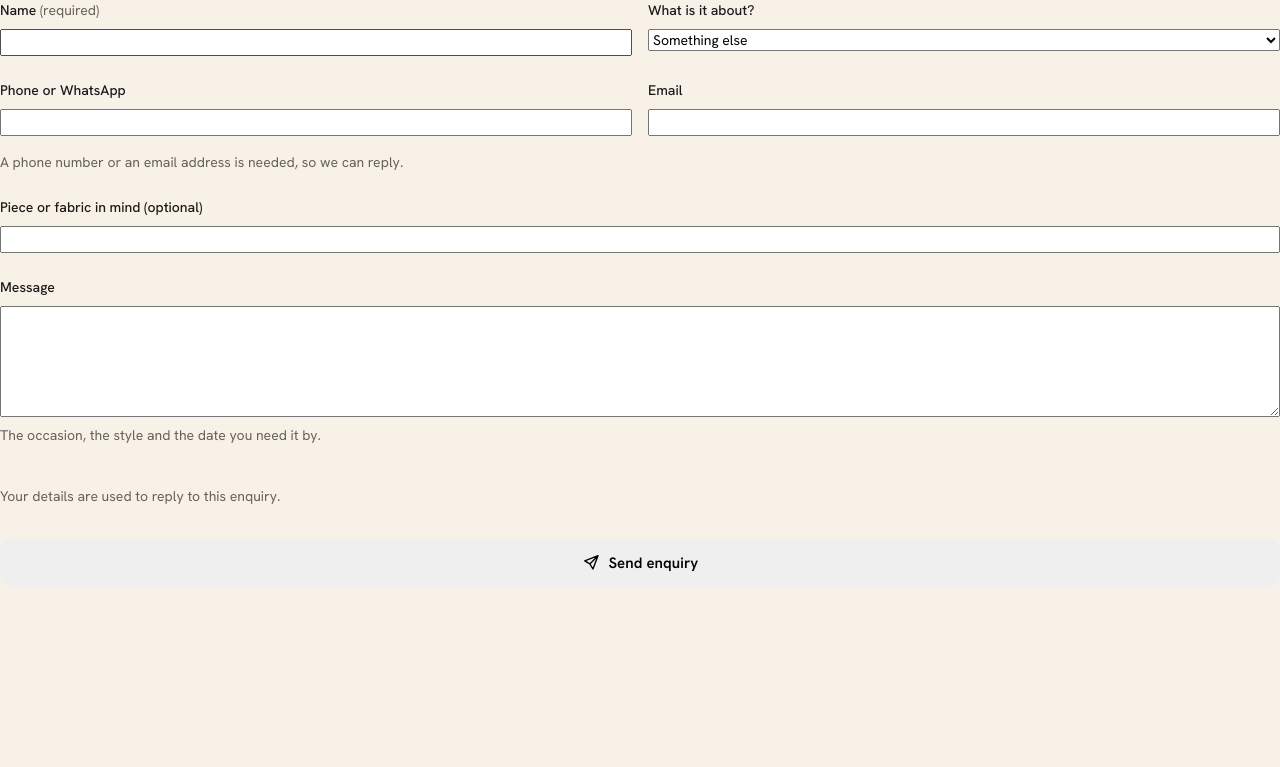
Test: public enquiry form: checking before sending › lists what is missing in a summary that takes focus, and sends nothing
Click the button "Send enquiry".
click(640, 563)  # box [0, 539, 1279, 587]
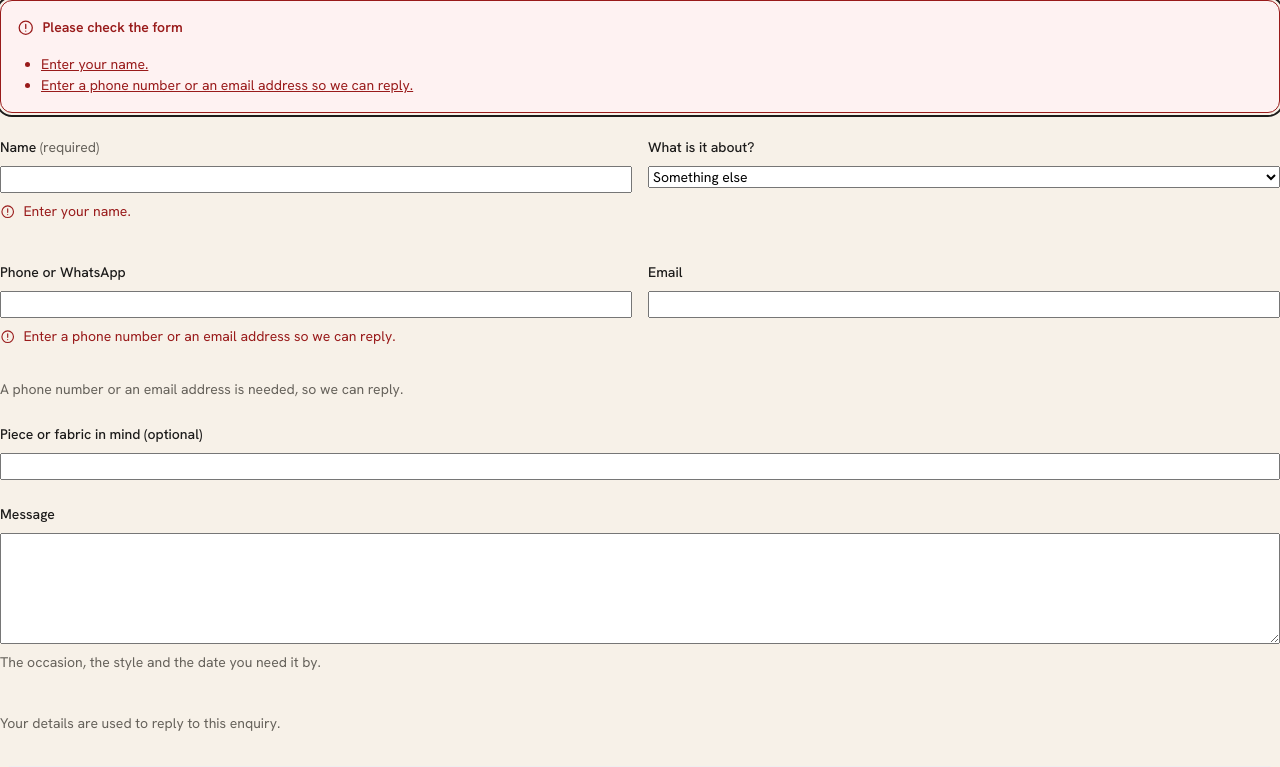
Check: the message shows "Please check the form", box [42, 18, 183, 36]
